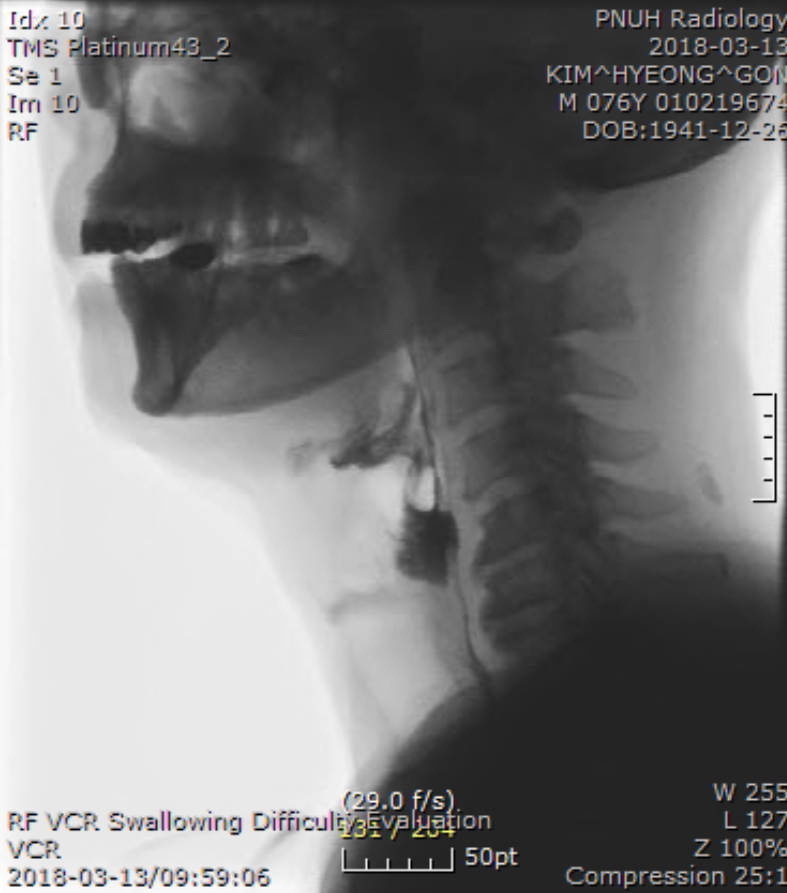dros: (419, 508, 474, 594)
food: (324, 383, 498, 650)
uros: (307, 399, 403, 483)
